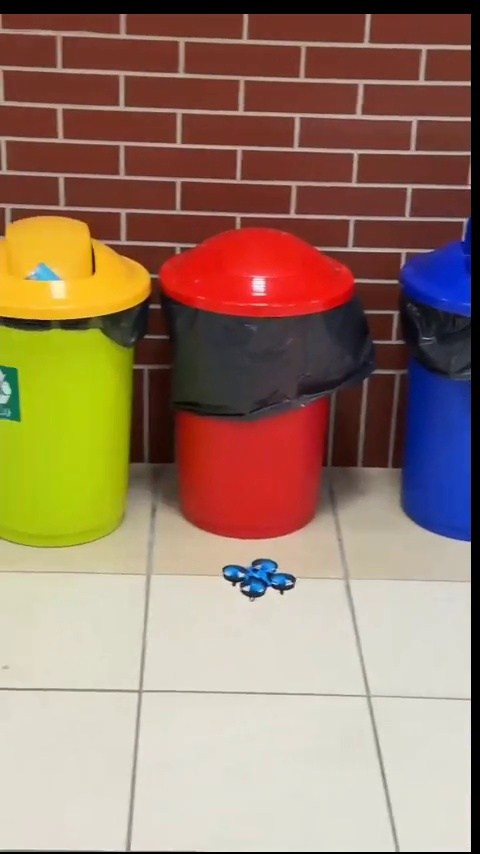drone: (221, 556, 295, 601)
